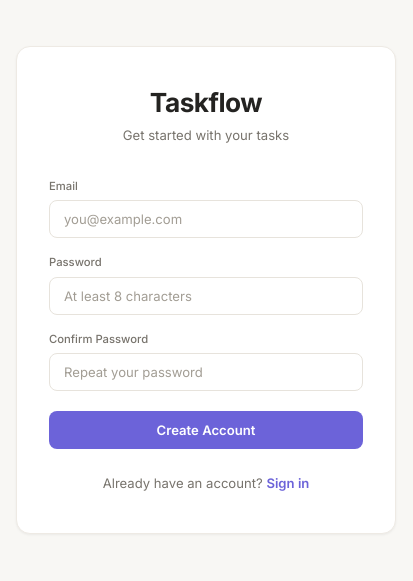
Test: RegisterPage › shows error when registration fails
In the field labelled "Email": (206, 219) [49,200,363,238], type "existing@test.com"
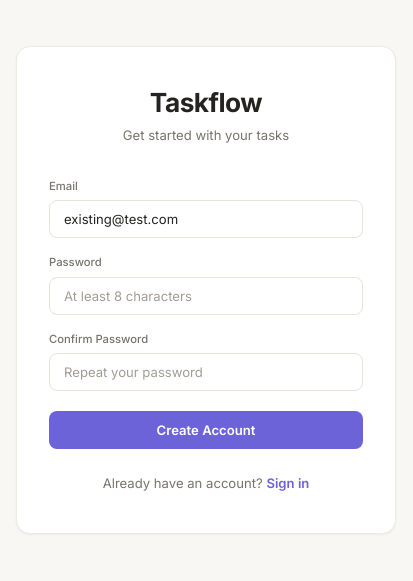
In the password field labelled "Password": (206, 296) [49,277,363,315], type "password123"
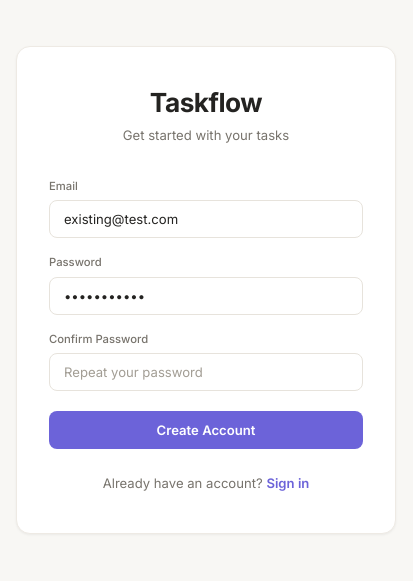
In the password field labelled "Confirm Password": (206, 372) [49,353,363,391], type "password123"
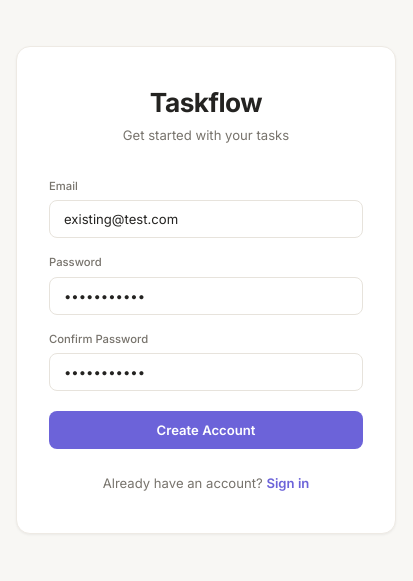
Click the button "Create Account": (206, 430) [49,411,363,449]
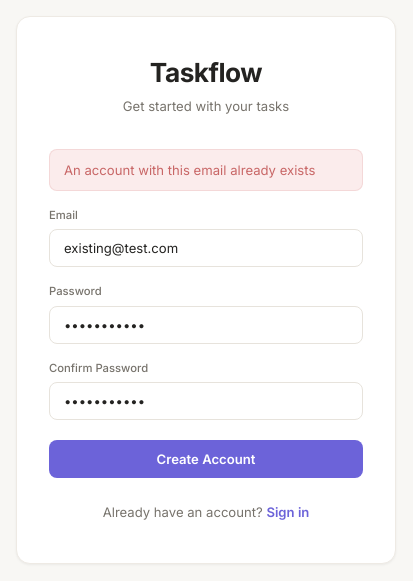
Expected: the text "An account with this email already exists" is shown, [49,149,363,191]
